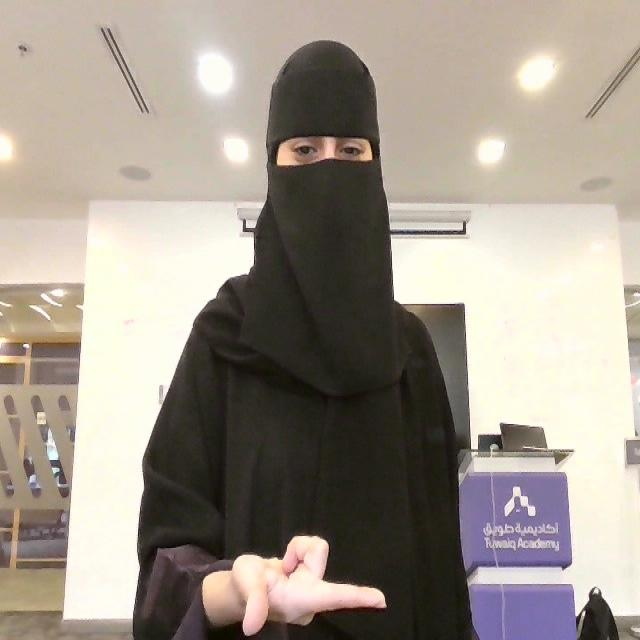dispensing: (201, 533, 387, 636)
